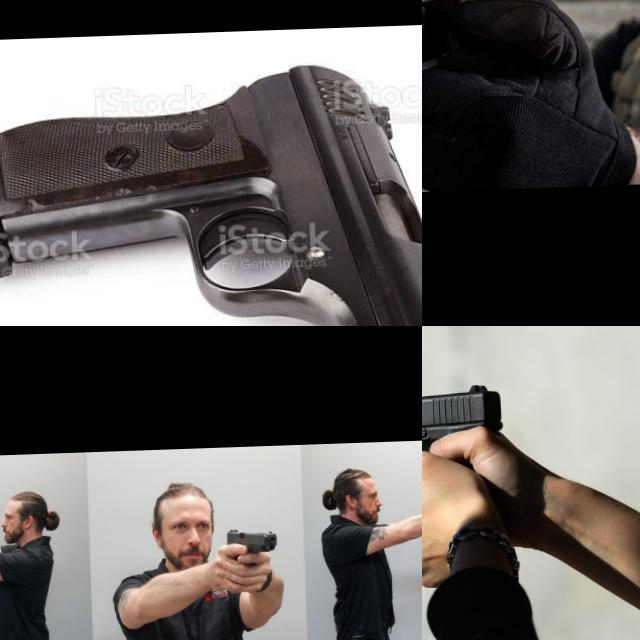handgun: (0, 51, 422, 326), (422, 0, 613, 98), (422, 378, 529, 496), (222, 526, 280, 568), (0, 514, 23, 537)
